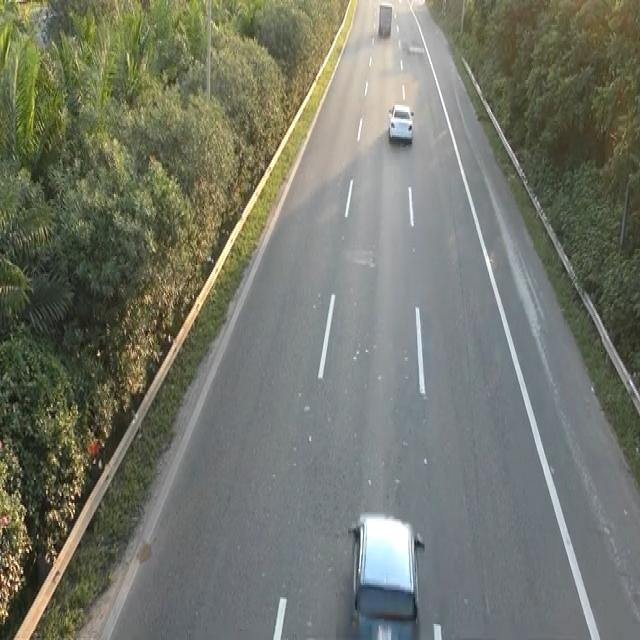bus: (347, 508, 427, 638), (385, 98, 417, 151)
minivan: (377, 2, 393, 37)
